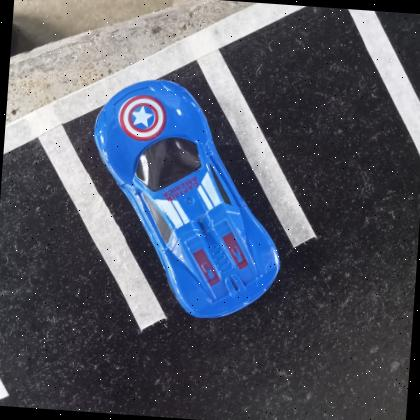Car: (93, 80, 280, 320)
